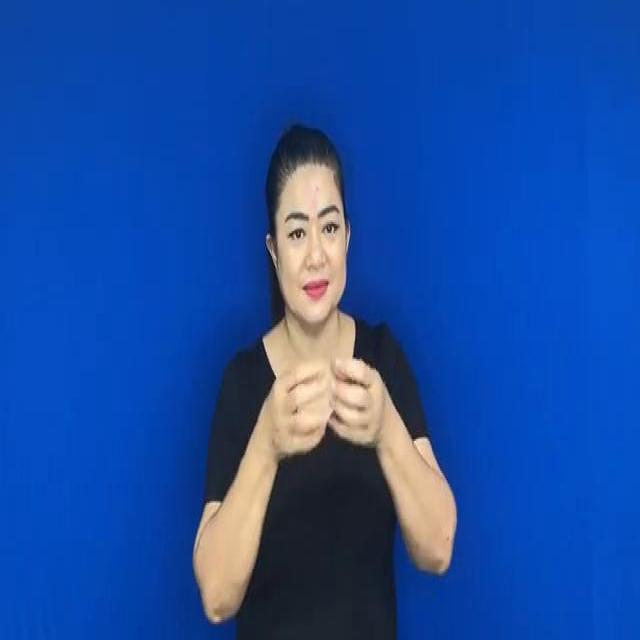egg: (243, 331, 401, 466)
